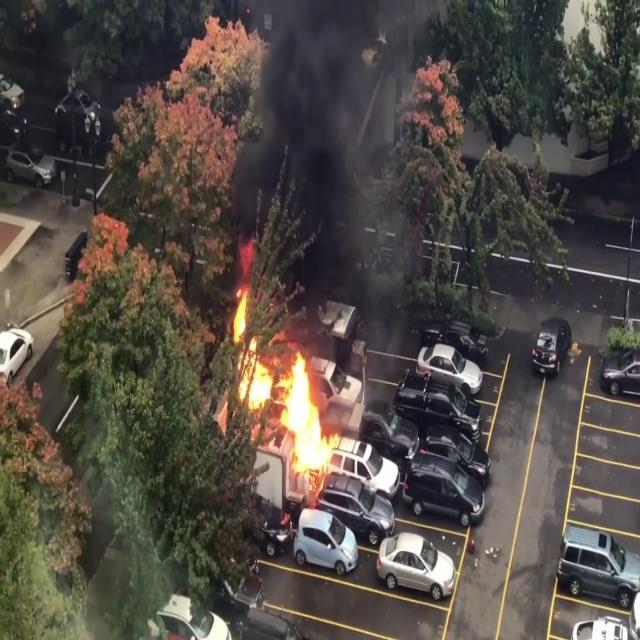Fire: (221, 280, 335, 486)
Smoke: (262, 0, 383, 272)
